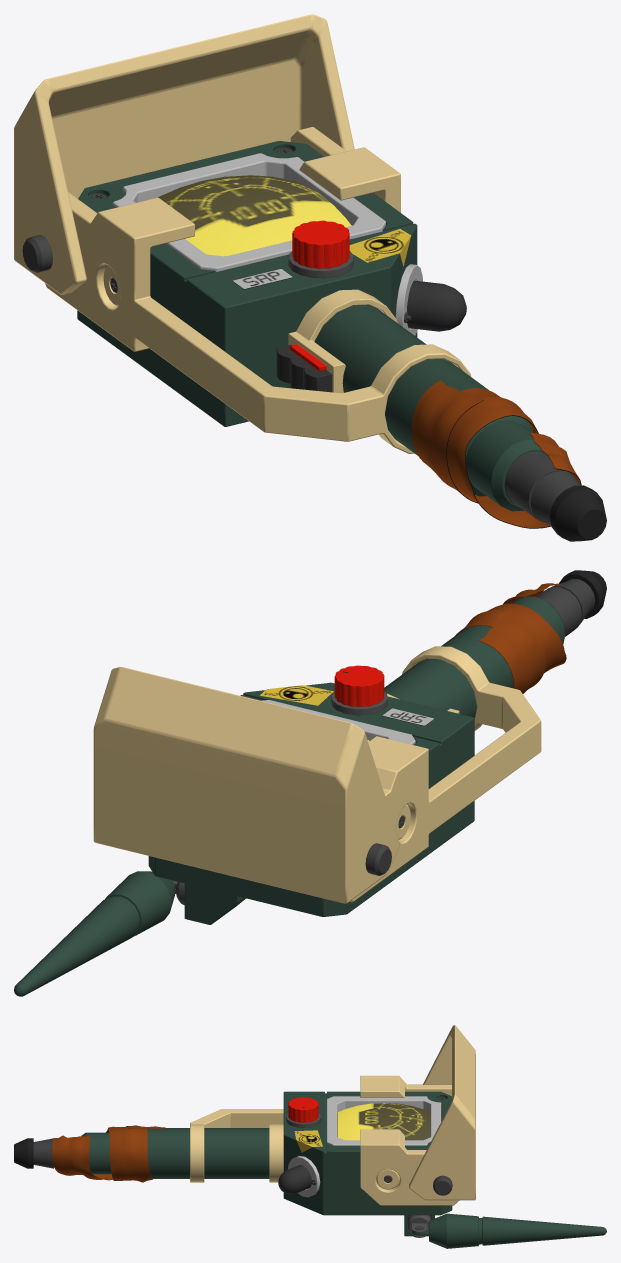
The model's file is scifi_device.glb.
3 renders of one model, top to bottom at view 1: azimuth 30°, elevation 25°; view 2: azimuth 150°, elevation 25°; view 3: azimuth 270°, elevation 25°, orthographic. The views are drawn at different scales.
Parts seen in each view (by area): view 1: Detector_0; view 2: Detector_0; view 3: Detector_0.
Part boxes in pixels (x1=…): Detector_0: x1=14, y1=14, x2=606, y2=541; Detector_0: x1=14, y1=570, x2=606, y2=996; Detector_0: x1=14, y1=1025, x2=606, y2=1248.
Bounding box in the file's own units: 2.91 × 2.56 × 8.69.
1 material, 1 textured.
